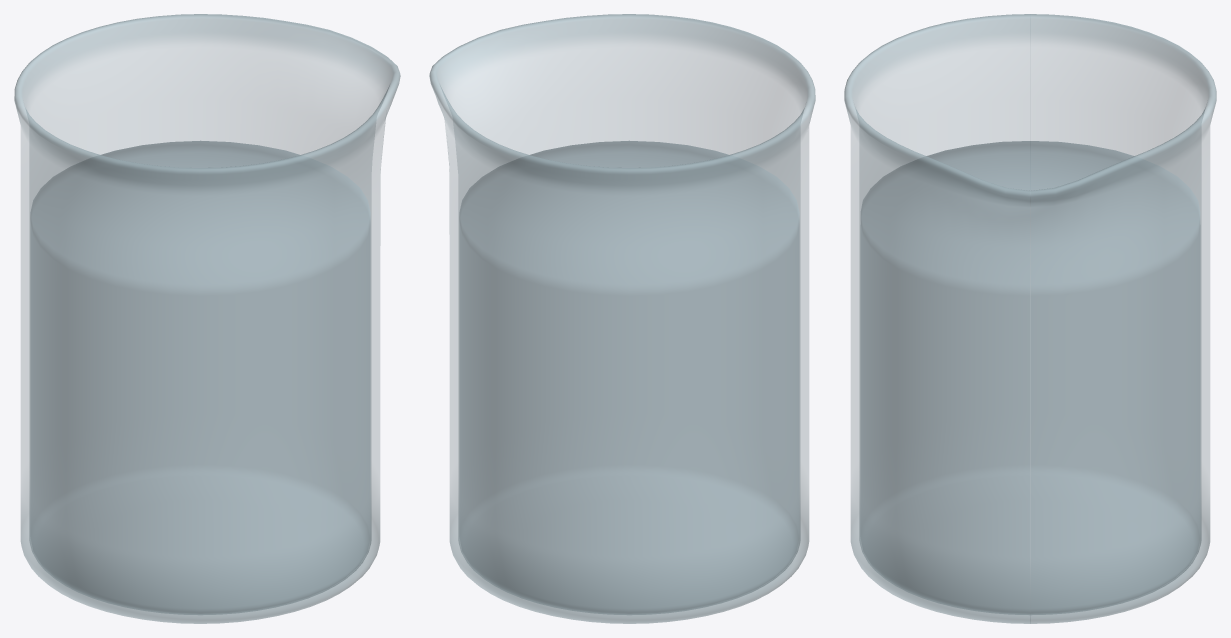
Rendered from beaker-400ml.glb.
3 views of the same model, side by side, from view 1: azimuth 30°, elevation 25°; view 2: azimuth 150°, elevation 25°; view 3: azimuth 270°, elevation 25° (orthographic).
Parts seen in each view (by area): view 1: beaker-400ml-glass, beaker-400ml-inner; view 2: beaker-400ml-glass, beaker-400ml-inner; view 3: beaker-400ml-glass, beaker-400ml-inner.
Part boxes in pixels (<box>): beaker-400ml-glass: <box>14,14,400,623</box>; beaker-400ml-inner: <box>30,140,370,613</box>; beaker-400ml-glass: <box>429,14,815,623</box>; beaker-400ml-inner: <box>459,140,799,613</box>; beaker-400ml-glass: <box>844,14,1216,623</box>; beaker-400ml-inner: <box>860,141,1200,613</box>.
Size of what is drawn, in the model's own units: 9.18 by 11.62 by 8.47.
